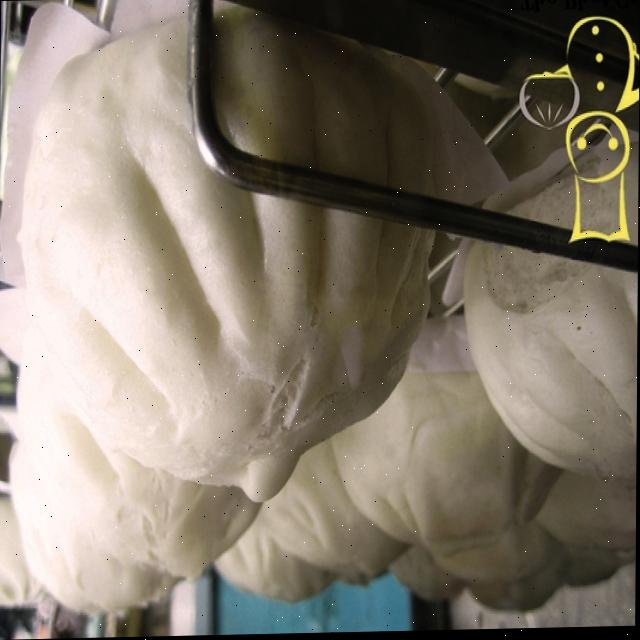带馅早点: (16, 47, 639, 640)
